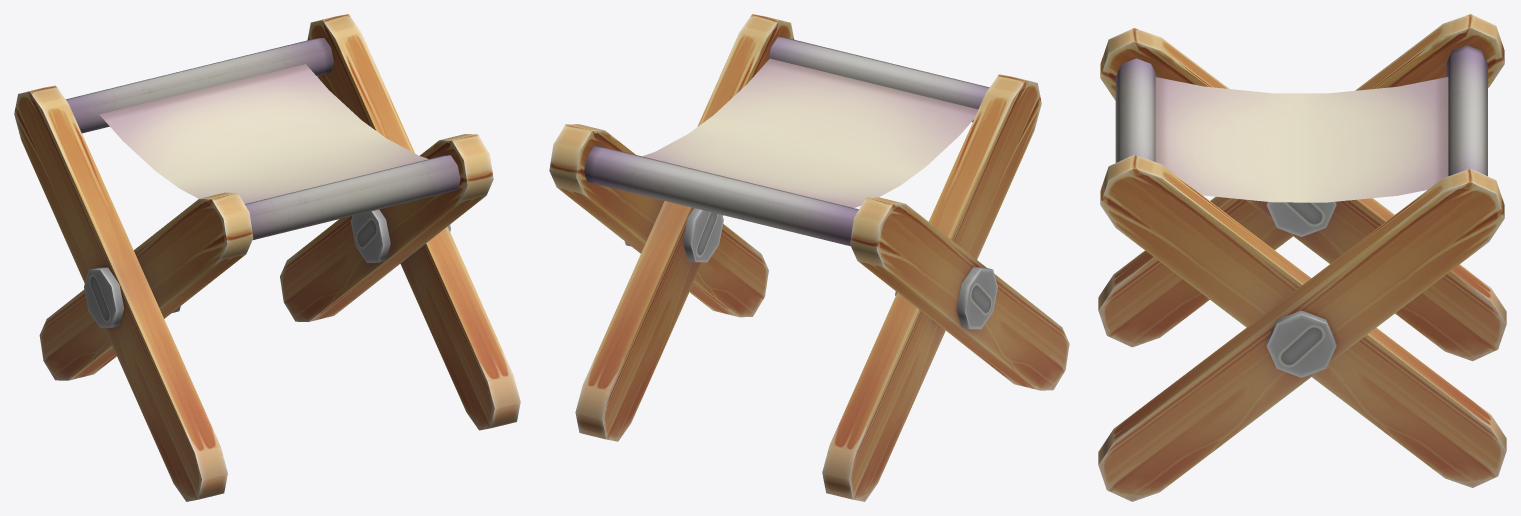
The model's file is SE_Seat_01.fbx.
3 views of the same model, side by side, from view 1: azimuth 30°, elevation 25°; view 2: azimuth 150°, elevation 25°; view 3: azimuth 270°, elevation 25° (orthographic). The views are drawn at different scales.
Visible parts, largest first — view 1: SE_Seat_01; view 2: SE_Seat_01; view 3: SE_Seat_01.
Boxes of the visible parts, x1=… form: SE_Seat_01: x1=14, y1=14, x2=520, y2=501; SE_Seat_01: x1=549, y1=14, x2=1069, y2=501; SE_Seat_01: x1=1098, y1=14, x2=1506, y2=501.
Bounding box in the file's own units: 1.48 × 1.25 × 1.45.
